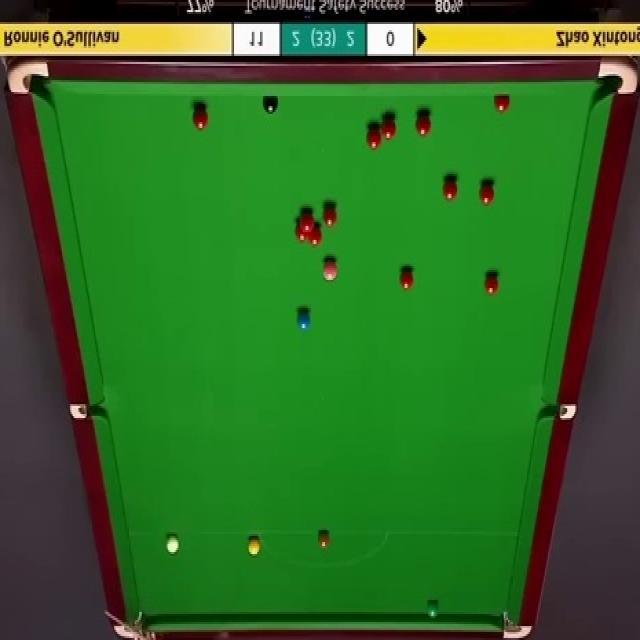pocket: (7, 57, 49, 95), (597, 58, 637, 96), (502, 609, 532, 640), (68, 403, 107, 420), (541, 403, 575, 420)
